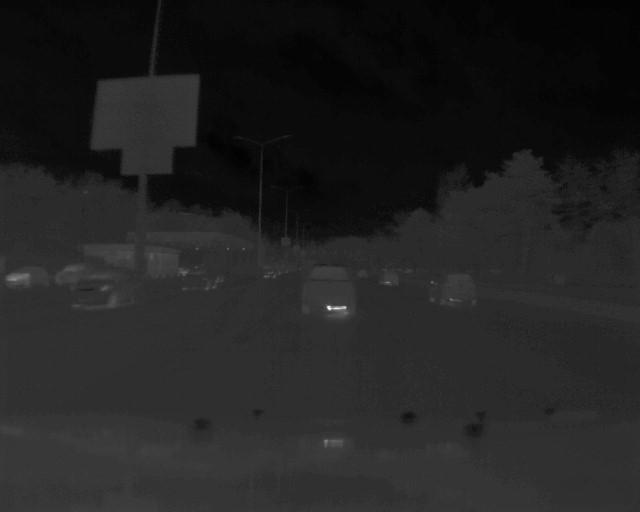car: (69, 268, 146, 312), (301, 262, 358, 317), (427, 270, 480, 307), (175, 264, 224, 297), (3, 265, 52, 292), (375, 266, 402, 287)
